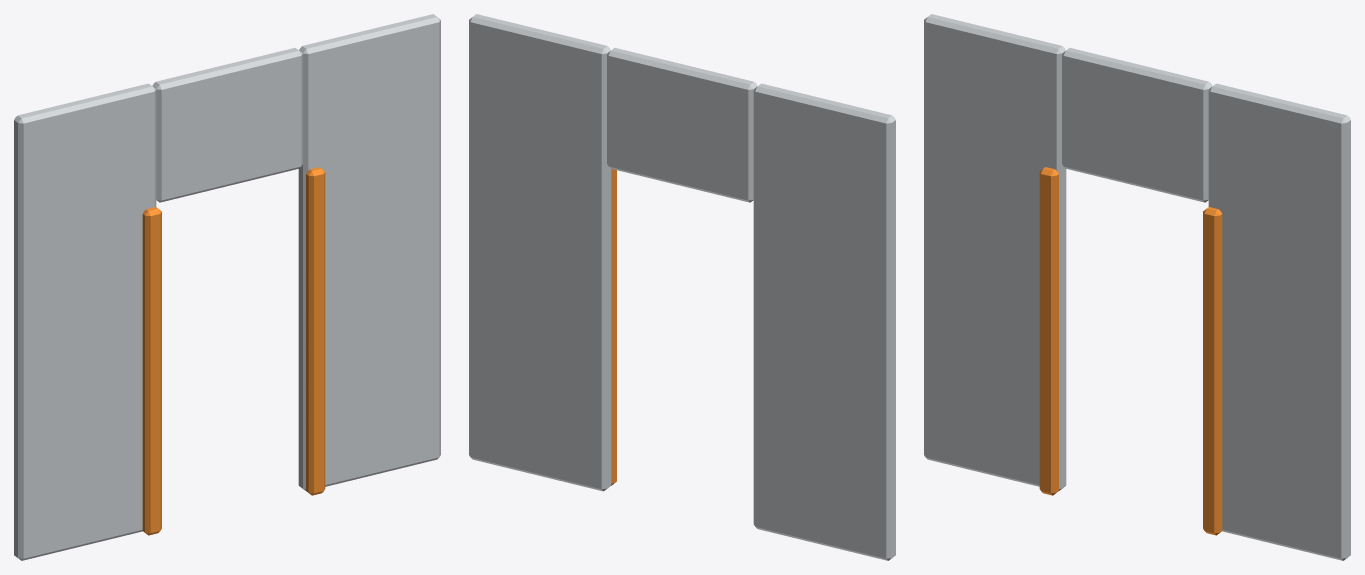
Rendered from base-DoorwaySingle.fbx.
The picture shows the model from 3 angles, left to right: view 1: azimuth 30°, elevation 25°; view 2: azimuth 150°, elevation 25°; view 3: azimuth 330°, elevation 25°; orthographic projection.
Visible parts, largest first — view 1: base-DoorwaySingle_Jamb.002, base-DoorwaySingle_Jamb.003, base-DoorwaySingle_Header.001, base-DoorwaySingle_Seal.003, base-DoorwaySingle_Seal.002; view 2: base-DoorwaySingle_Jamb.002, base-DoorwaySingle_Jamb.003, base-DoorwaySingle_Header.001, base-DoorwaySingle_Seal.003; view 3: base-DoorwaySingle_Jamb.003, base-DoorwaySingle_Jamb.002, base-DoorwaySingle_Header.001, base-DoorwaySingle_Seal.002, base-DoorwaySingle_Seal.003.
Part boxes in pixels (x1=…): base-DoorwaySingle_Jamb.002: x1=14, y1=83, x2=156, y2=560; base-DoorwaySingle_Jamb.003: x1=298, y1=14, x2=440, y2=490; base-DoorwaySingle_Header.001: x1=152, y1=48, x2=302, y2=202; base-DoorwaySingle_Seal.003: x1=306, y1=167, x2=325, y2=495; base-DoorwaySingle_Seal.002: x1=142, y1=207, x2=161, y2=535; base-DoorwaySingle_Jamb.002: x1=753, y1=83, x2=895, y2=560; base-DoorwaySingle_Jamb.003: x1=469, y1=14, x2=611, y2=491; base-DoorwaySingle_Header.001: x1=607, y1=48, x2=757, y2=202; base-DoorwaySingle_Seal.003: x1=611, y1=169, x2=616, y2=485; base-DoorwaySingle_Jamb.003: x1=1208, y1=83, x2=1350, y2=560; base-DoorwaySingle_Jamb.002: x1=924, y1=14, x2=1066, y2=490; base-DoorwaySingle_Header.001: x1=1062, y1=48, x2=1212, y2=202; base-DoorwaySingle_Seal.002: x1=1039, y1=167, x2=1058, y2=495; base-DoorwaySingle_Seal.003: x1=1203, y1=207, x2=1222, y2=535.
Size of the model in its own units: 300 by 300 by 17.
